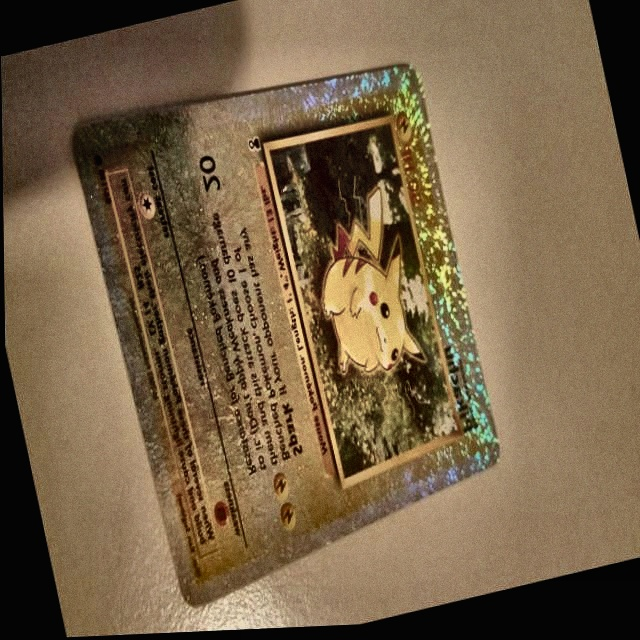card: (70, 67, 498, 612)
